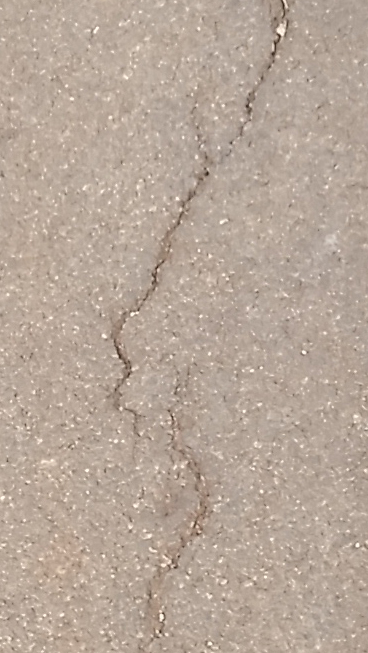A: (108, 1, 302, 644)
